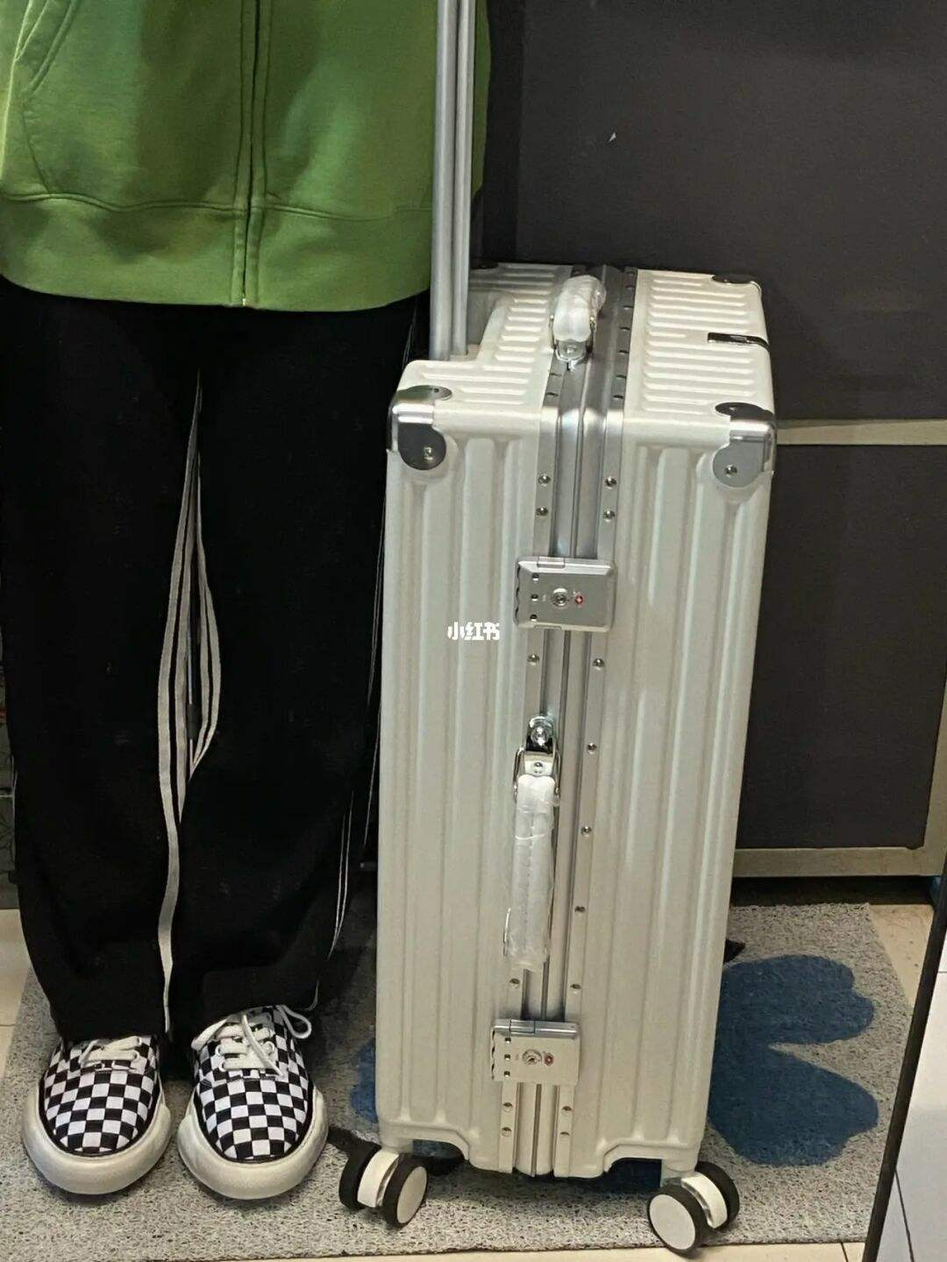box: (375, 258, 779, 1180)
handle: (499, 714, 560, 969), (550, 273, 602, 364)
lock: (512, 557, 616, 636), (488, 1017, 580, 1086)
wheel: (645, 1162, 741, 1254), (338, 1142, 427, 1228)
